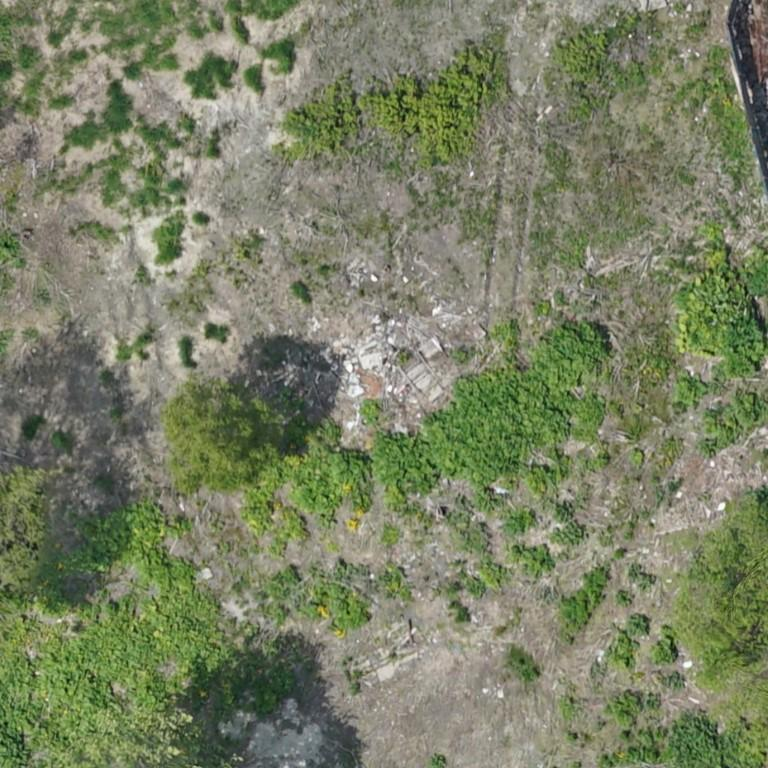hogweed: (374, 323, 606, 510), (0, 593, 231, 767), (74, 499, 192, 593), (285, 440, 371, 526), (668, 715, 744, 767), (310, 574, 369, 632), (559, 566, 609, 632), (241, 483, 275, 535), (510, 543, 554, 576), (606, 690, 643, 727), (606, 631, 638, 669), (652, 625, 678, 664), (503, 507, 535, 536), (280, 507, 307, 541), (478, 556, 505, 589), (550, 520, 584, 545), (624, 613, 649, 636), (465, 576, 486, 598), (279, 564, 301, 583), (555, 500, 574, 521)
